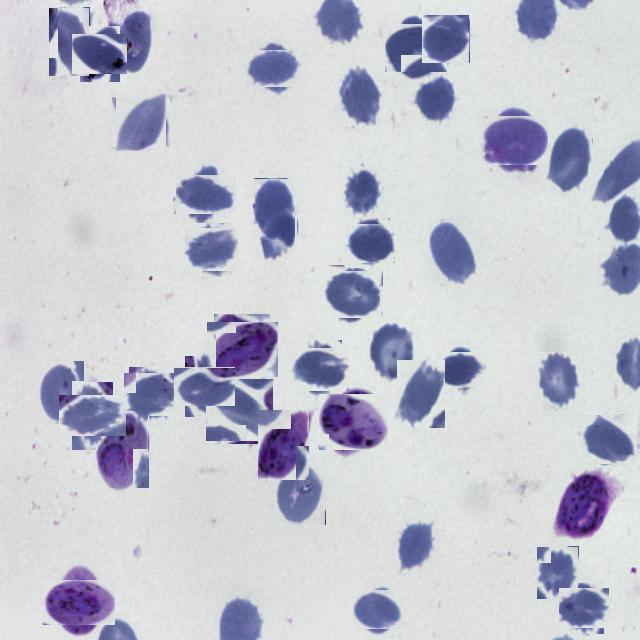difficult: (50, 572, 109, 632)
gametocyte: (554, 470, 613, 539)
red blood cell: (208, 378, 272, 442), (485, 110, 545, 170), (397, 360, 445, 428), (276, 461, 326, 525), (429, 219, 478, 284), (388, 20, 443, 76), (548, 125, 593, 192), (368, 319, 416, 381), (38, 362, 84, 426), (66, 389, 120, 443), (114, 95, 168, 149), (326, 268, 380, 321), (582, 413, 636, 466), (49, 7, 90, 76), (252, 178, 296, 240), (339, 66, 382, 128), (178, 169, 230, 220), (294, 344, 346, 395), (126, 370, 176, 420), (180, 362, 230, 412), (537, 352, 580, 410), (422, 15, 470, 63), (76, 30, 124, 78), (188, 226, 235, 274), (537, 546, 579, 599), (414, 73, 456, 125), (356, 586, 402, 632), (561, 586, 607, 632), (119, 11, 152, 74), (252, 46, 298, 91), (348, 220, 392, 266), (396, 520, 435, 571), (439, 348, 484, 392), (344, 166, 382, 217)
trophozoite: (210, 318, 274, 382), (98, 411, 149, 488), (323, 391, 385, 454), (258, 409, 310, 480)
